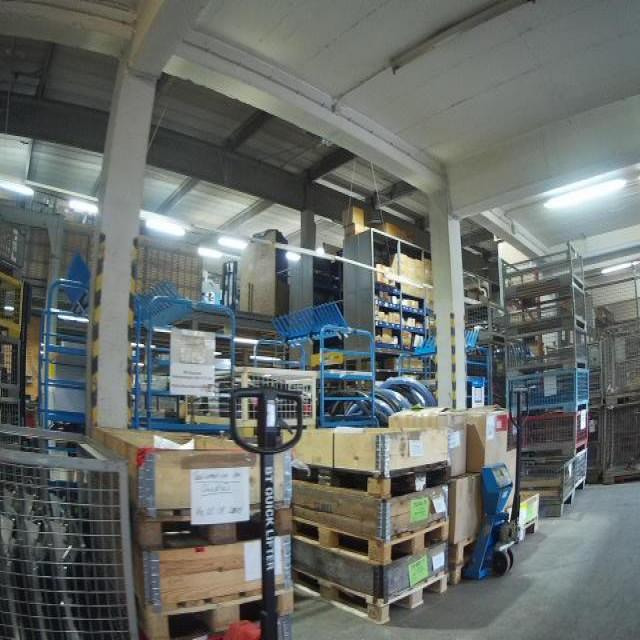pallet: (291, 561, 449, 628), (129, 496, 295, 555), (289, 511, 449, 569), (134, 585, 298, 640), (291, 459, 453, 500), (443, 557, 475, 583), (451, 538, 477, 561)
pallet_truck: (193, 388, 306, 638), (464, 384, 536, 587)
stillage: (0, 420, 136, 640), (511, 447, 579, 525), (488, 282, 590, 334), (497, 242, 578, 298), (499, 325, 590, 369), (506, 367, 590, 411), (599, 403, 639, 485), (598, 322, 639, 401), (511, 411, 592, 444), (575, 447, 590, 492)
